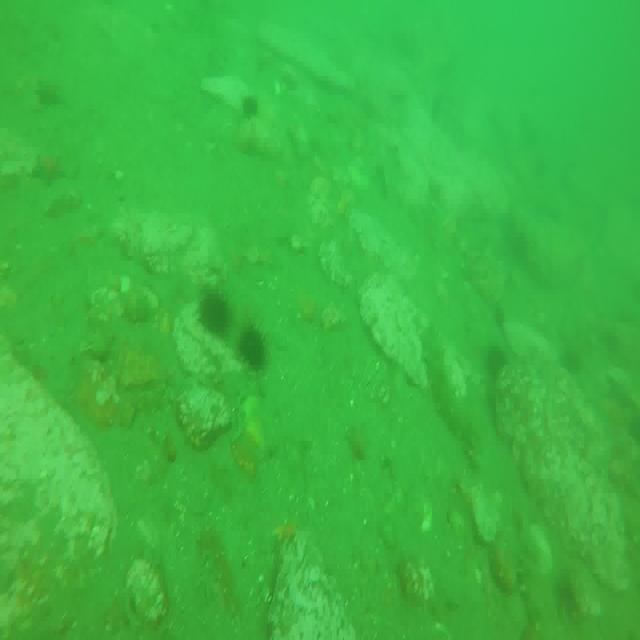echinus: (200, 285, 229, 340), (237, 318, 263, 366), (563, 346, 589, 376), (488, 344, 509, 374), (242, 93, 258, 121)
holothurian: (417, 315, 466, 432)
starfish: (33, 150, 65, 184), (36, 74, 62, 104)
